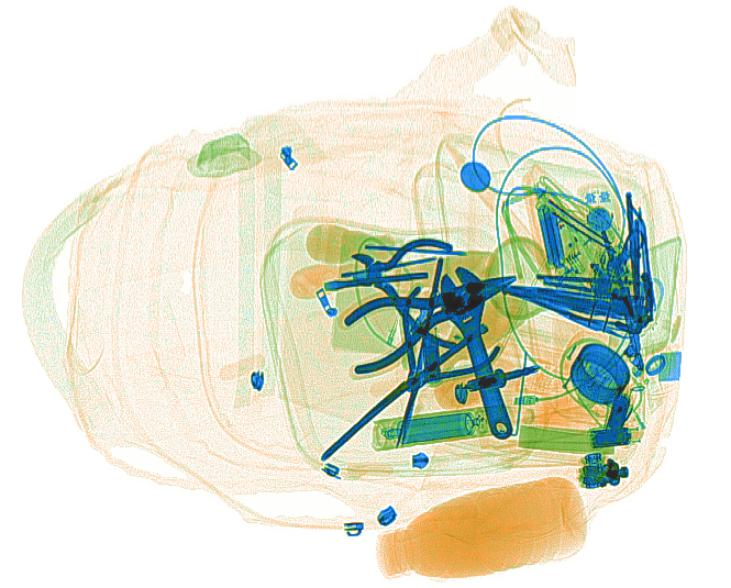battery: (394, 411, 477, 444), (535, 202, 567, 269)
